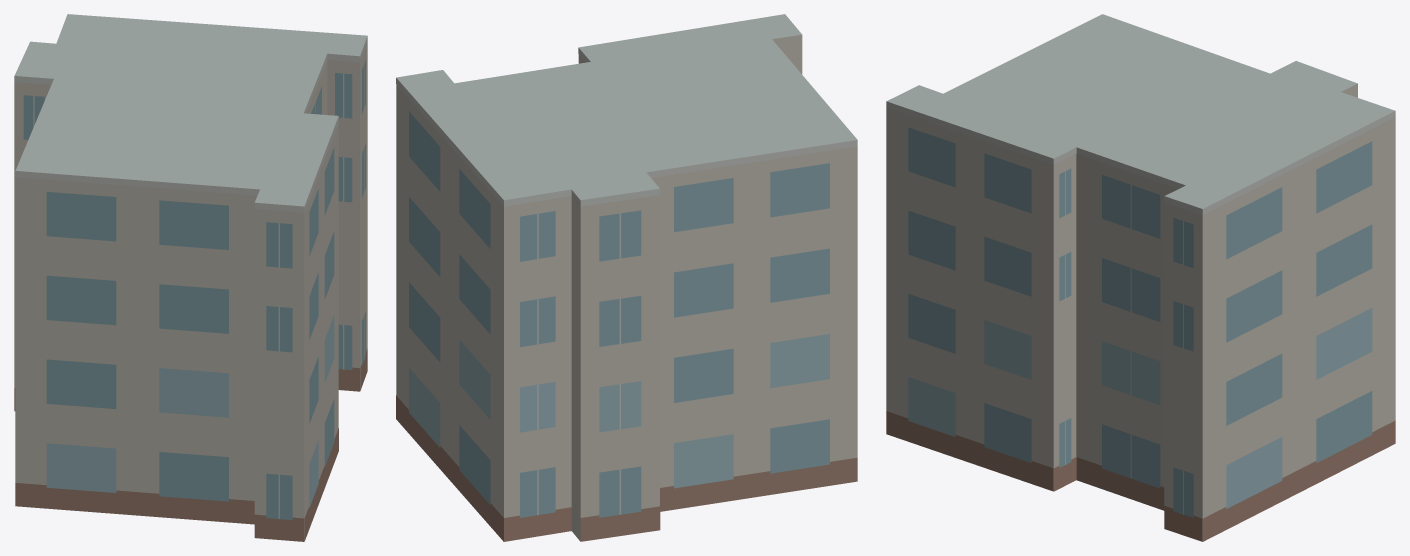
File: survey-upis-32907124.glb
3 views of the same model, side by side, from view 1: azimuth 30°, elevation 25°; view 2: azimuth 150°, elevation 25°; view 3: azimuth 270°, elevation 25° (orthographic). The views are drawn at different scales.
Parts seen in each view (by area): view 1: survey-upis-32907124.tmp; view 2: survey-upis-32907124.tmp; view 3: survey-upis-32907124.tmp.
Boxes of the visible parts, bbox=[...] form: survey-upis-32907124.tmp: bbox=[14, 14, 367, 541]; survey-upis-32907124.tmp: bbox=[396, 14, 857, 541]; survey-upis-32907124.tmp: bbox=[886, 14, 1395, 541].
Size of the model in its own units: 16.41 by 13.05 by 18.1.
